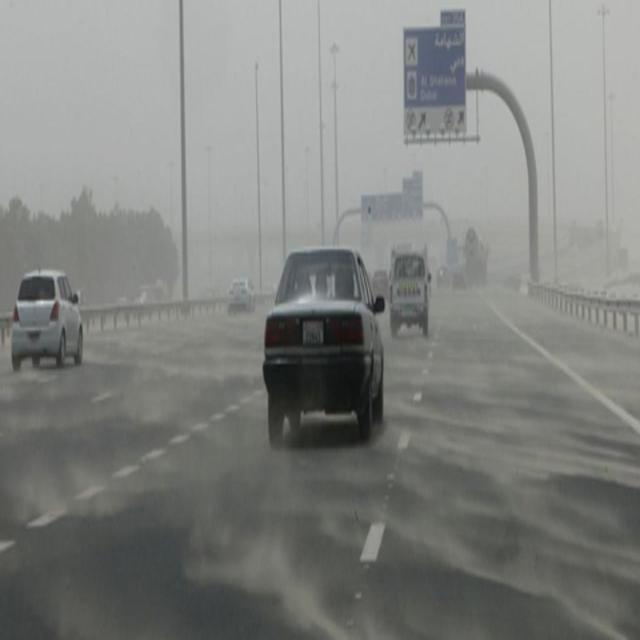Car: (256, 231, 382, 457), (5, 256, 81, 386), (391, 238, 431, 358), (227, 264, 253, 337), (370, 252, 390, 312), (435, 255, 451, 292), (454, 265, 466, 303)
Truck: (458, 211, 491, 293)
